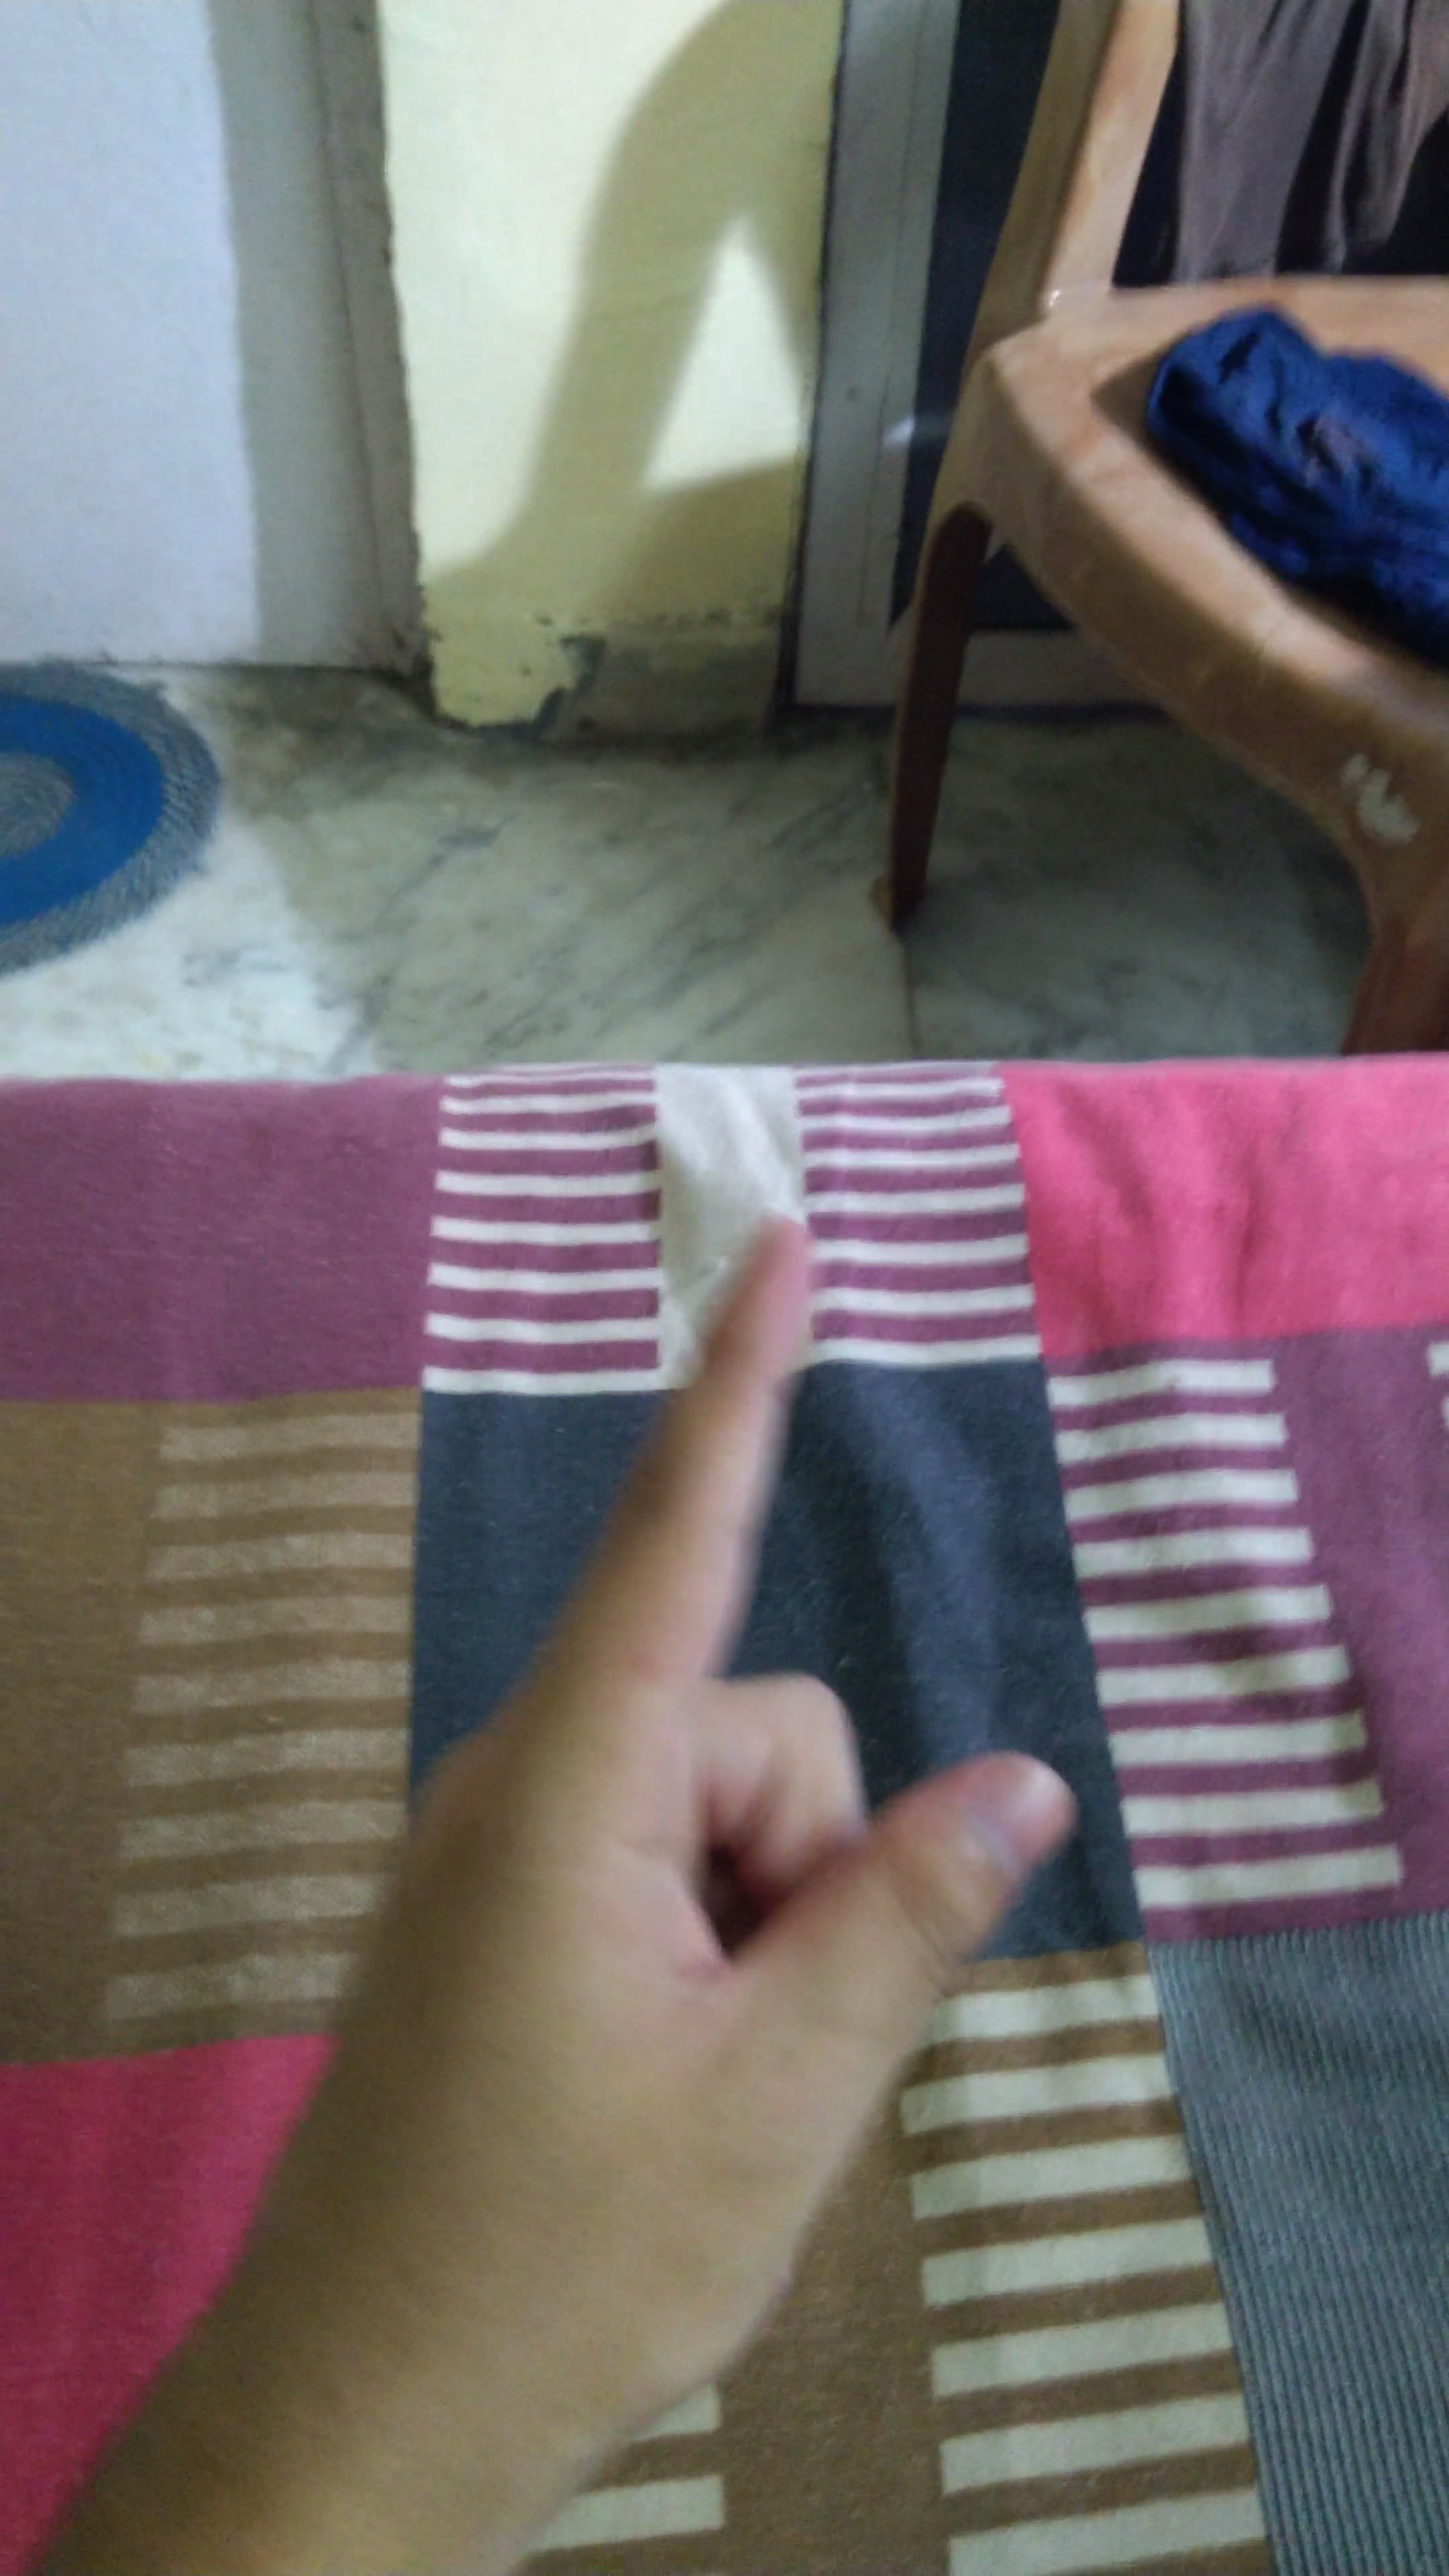hand: (214, 1182, 1125, 2479)
